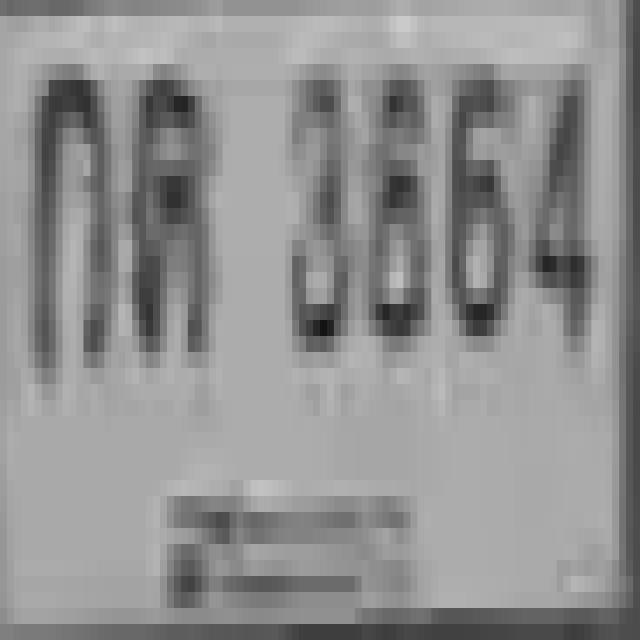10GorGai: (28, 48, 118, 384)
13KhorKhwai: (118, 48, 223, 384)
3: (278, 64, 341, 336)
4: (522, 64, 591, 352)
6: (431, 48, 515, 336), (355, 64, 431, 336)
